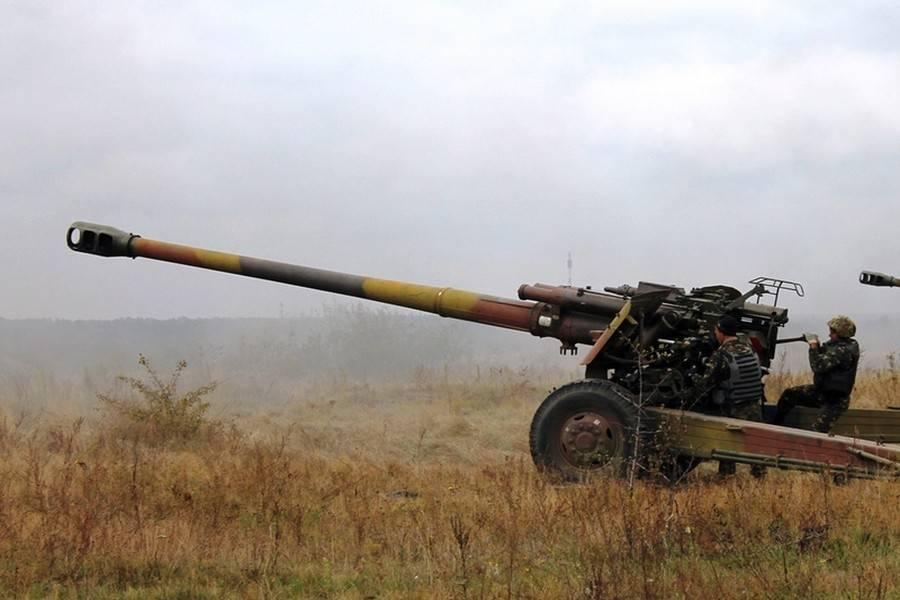sau: (62, 191, 900, 493)
